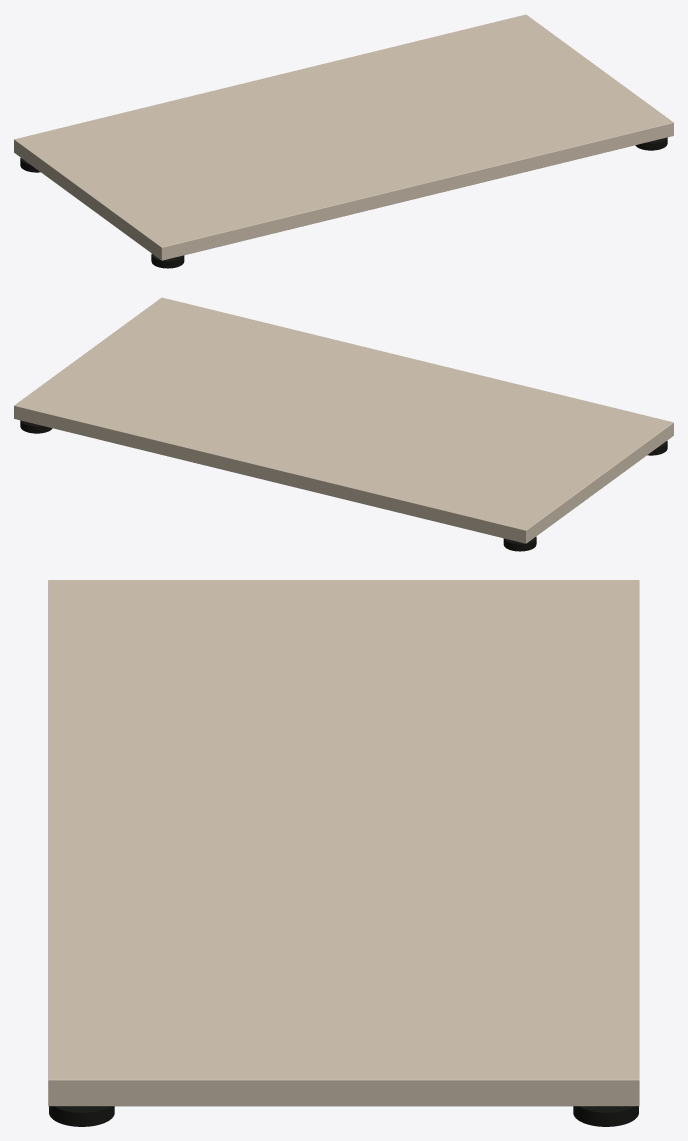
File: PLT-2X1-AR.glb
The picture shows the model from 3 angles, top to bottom: view 1: azimuth 30°, elevation 25°; view 2: azimuth 150°, elevation 25°; view 3: azimuth 270°, elevation 25°; orthographic projection. The views are drawn at different scales.
Bounding box in the file's own units: 720 × 32 × 360.
